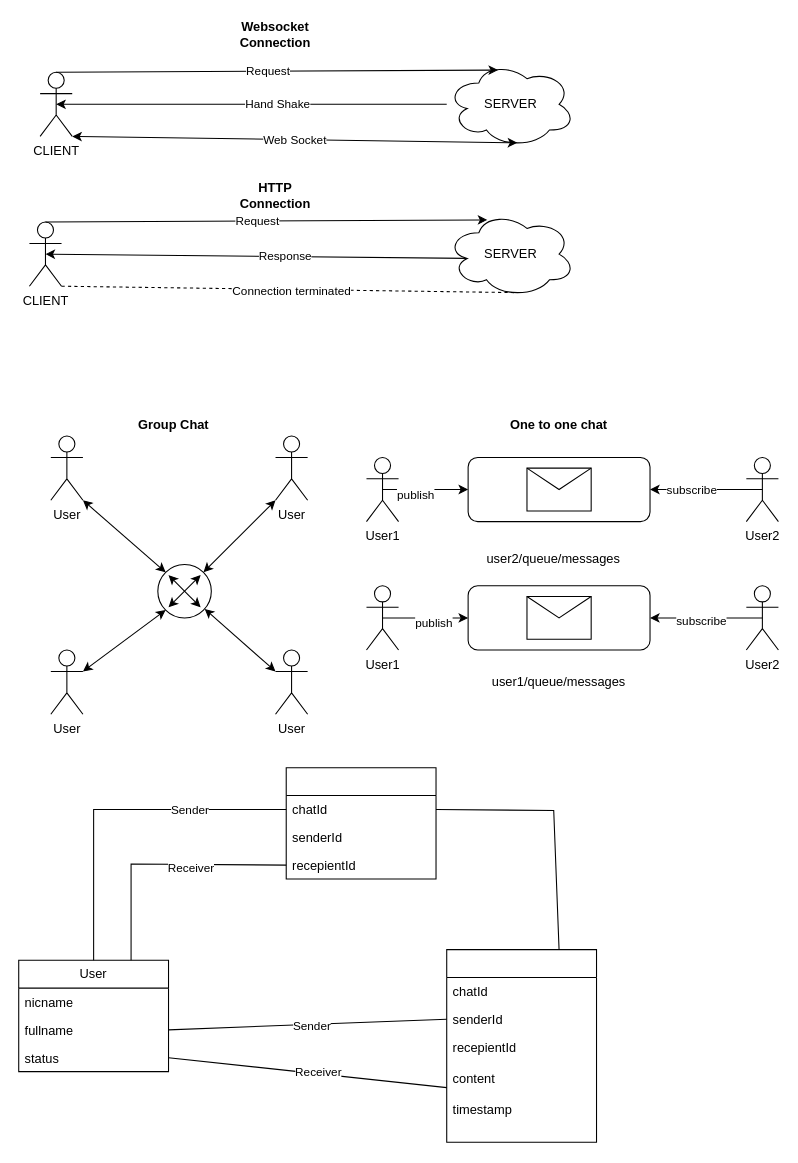
This 798x1163 diagram has some shape labels left out. Each missing label, with the box of its shape:
ChatMessage: (446, 949, 597, 1142)
ChatRoom: (285, 767, 436, 879)
